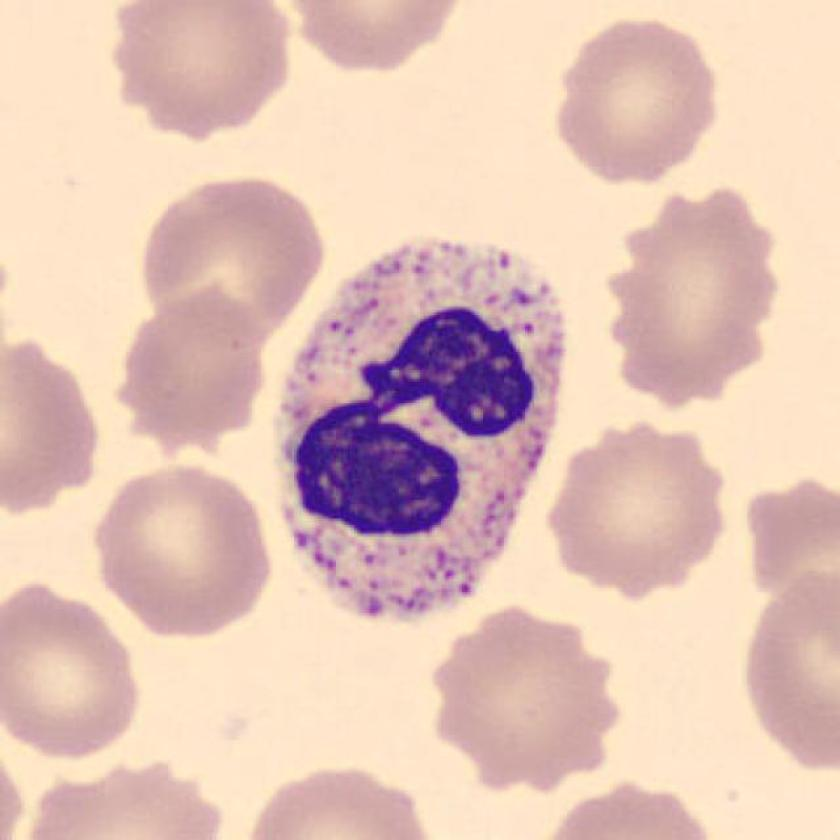neutrophil: (284, 240, 566, 616)
